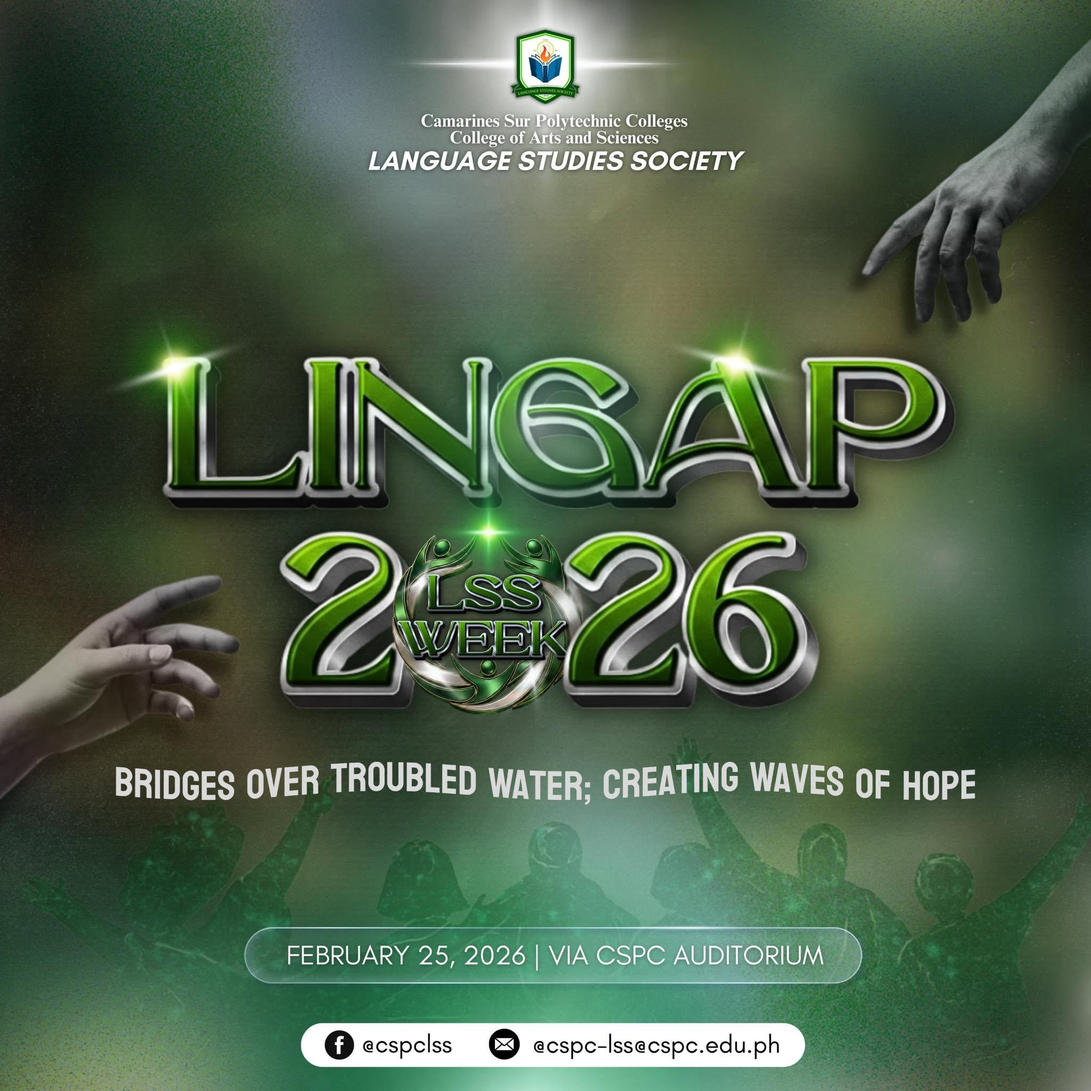embellishment: (852, 32, 1081, 344), (1, 558, 244, 793), (696, 340, 780, 393), (137, 345, 222, 396), (455, 514, 520, 560), (481, 1028, 525, 1059), (320, 1028, 355, 1061)
logo: (490, 21, 598, 109)
text: (153, 327, 966, 709), (108, 736, 981, 817), (359, 106, 761, 179), (275, 938, 832, 976), (399, 570, 572, 666), (527, 1025, 792, 1063), (360, 1032, 460, 1061)
underlay: (247, 921, 862, 983), (298, 1021, 808, 1071)
